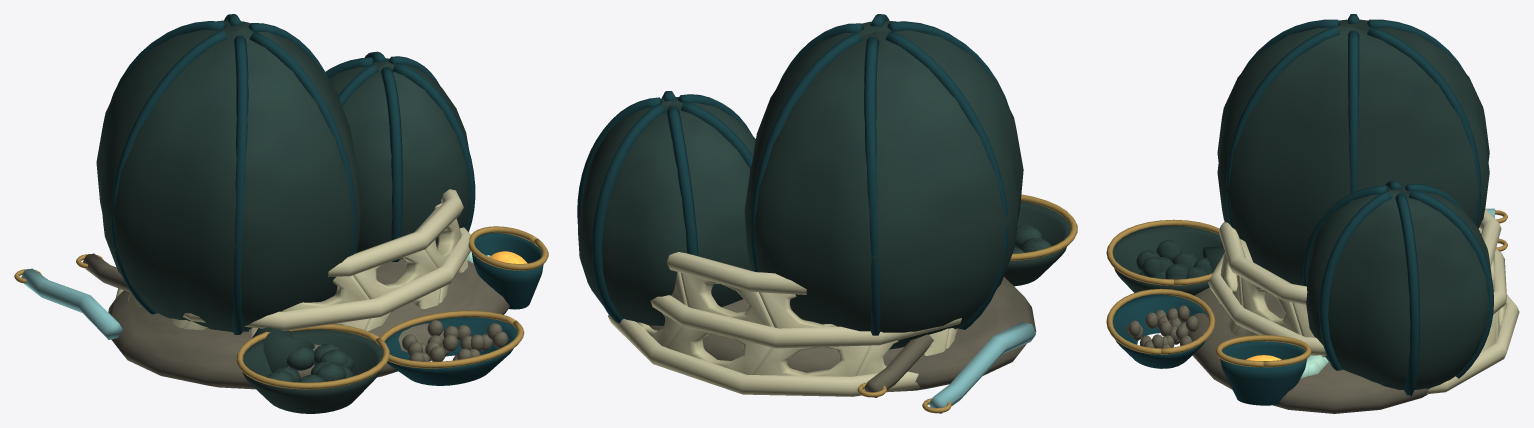
File: 10_waste_digester.glb
3 renders of one model, left to right at view 1: azimuth 30°, elevation 25°; view 2: azimuth 150°, elevation 25°; view 3: azimuth 270°, elevation 25°, orthographic. The views are drawn at different scales.
Parts seen in each view (by area): view 1: GrowthShellMesh.009, GrowthFrameMesh.009, CargoOutput__recovered_fertiliserMesh, CargoInput__organic_wasteMesh; view 2: GrowthShellMesh.009, GrowthFrameMesh.009, CargoInput__organic_wasteMesh; view 3: GrowthShellMesh.009, GrowthFrameMesh.009, CargoInput__organic_wasteMesh, CargoOutput__recovered_fertiliserMesh, FlowMesh.001.
Part boxes in pixels (<box>): GrowthShellMesh.009: <box>21,14,543,413</box>; GrowthFrameMesh.009: <box>14,189,548,389</box>; CargoOutput__recovered_fertiliserMesh: <box>402,320,508,361</box>; CargoInput__organic_wasteMesh: <box>267,343,354,382</box>; GrowthShellMesh.009: <box>577,14,1070,413</box>; GrowthFrameMesh.009: <box>608,194,1077,413</box>; CargoInput__organic_wasteMesh: <box>1013,225,1051,253</box>; GrowthShellMesh.009: <box>1113,14,1494,405</box>; GrowthFrameMesh.009: <box>1106,208,1519,413</box>; CargoInput__organic_wasteMesh: <box>1136,239,1212,279</box>; CargoOutput__recovered_fertiliserMesh: <box>1126,305,1198,348</box>; FlowMesh.001: <box>1300,355,1328,378</box>.
Bounding box in the file's own units: 3.38 × 2.61 × 3.22.
Materials: 8 (8 with a texture image).
